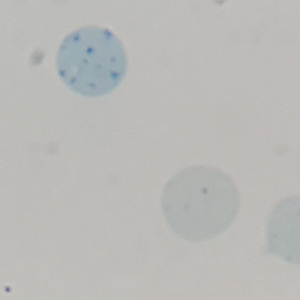aggregate reticulocyte: (55, 26, 127, 98)
erythrocyte: (160, 164, 240, 241)
